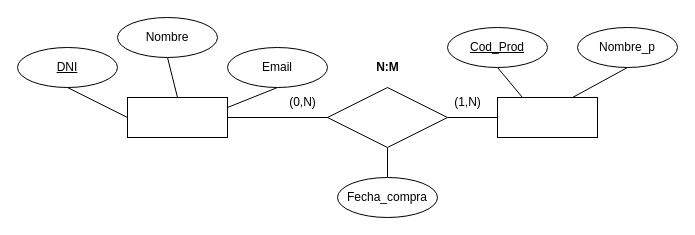
Some shapes in this 695 by 235 pixel diagram are drawn without their labels. Here are the shapes that lost their labels. From the top down, the centre of each, then its label:
At pixel 177 117: "Cliente".
At pixel 387 117: "Compra".
At pixel 547 117: "Producto".
